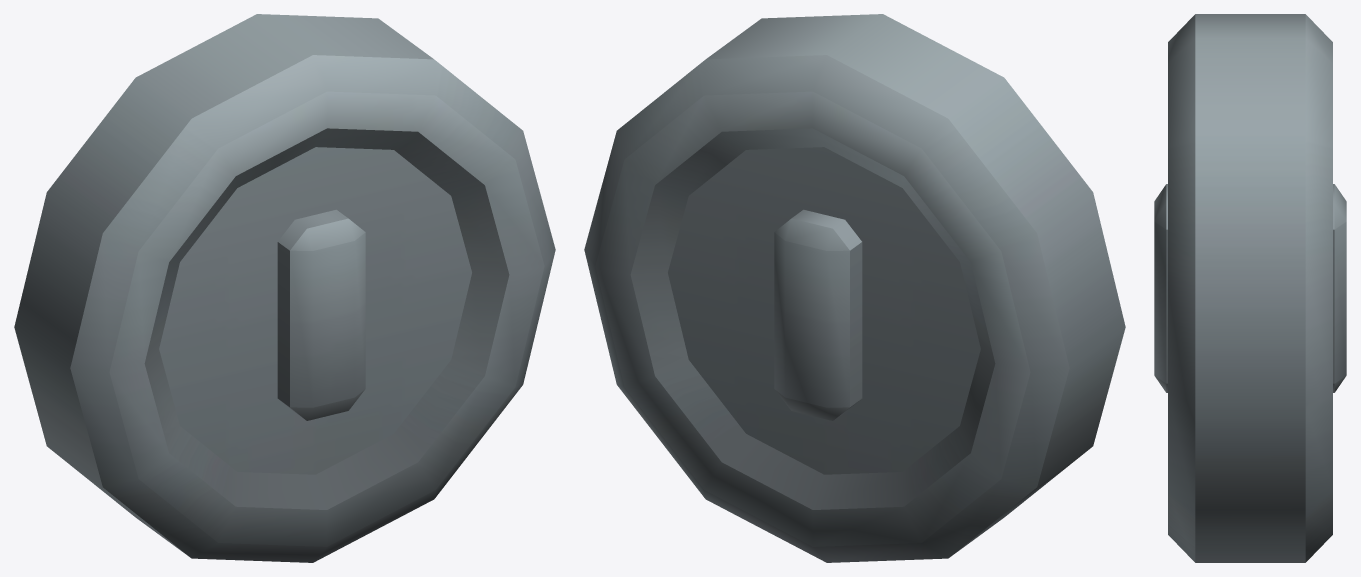
File: kaykit-prototype-bits-coin-b.glb
3 views of the same model, side by side, from view 1: azimuth 30°, elevation 25°; view 2: azimuth 150°, elevation 25°; view 3: azimuth 270°, elevation 25° (orthographic).
Parts seen in each view (by area): view 1: Coin_B; view 2: Coin_B; view 3: Coin_B.
Part boxes in pixels (bbox=[...]): Coin_B: bbox=[14, 14, 555, 562]; Coin_B: bbox=[584, 14, 1125, 562]; Coin_B: bbox=[1154, 14, 1346, 562].
Bounding box in the file's own units: 1 × 1 × 0.3492.
Materials: 1 (1 with a texture image).
